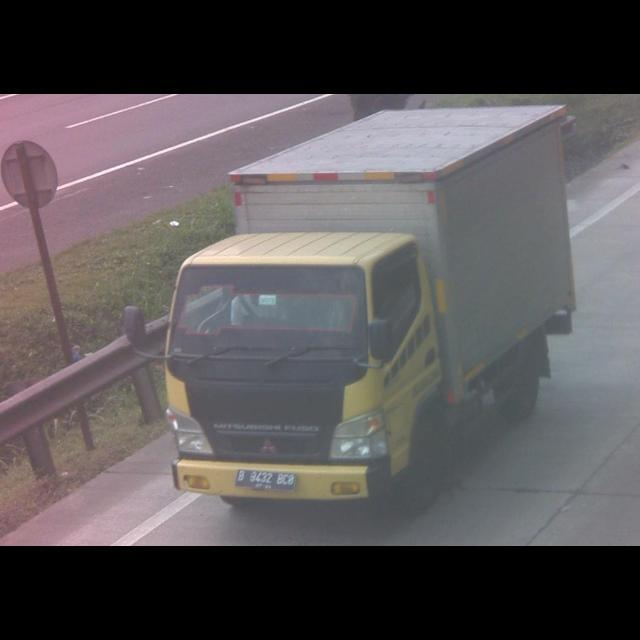plate: (235, 467, 299, 490)
